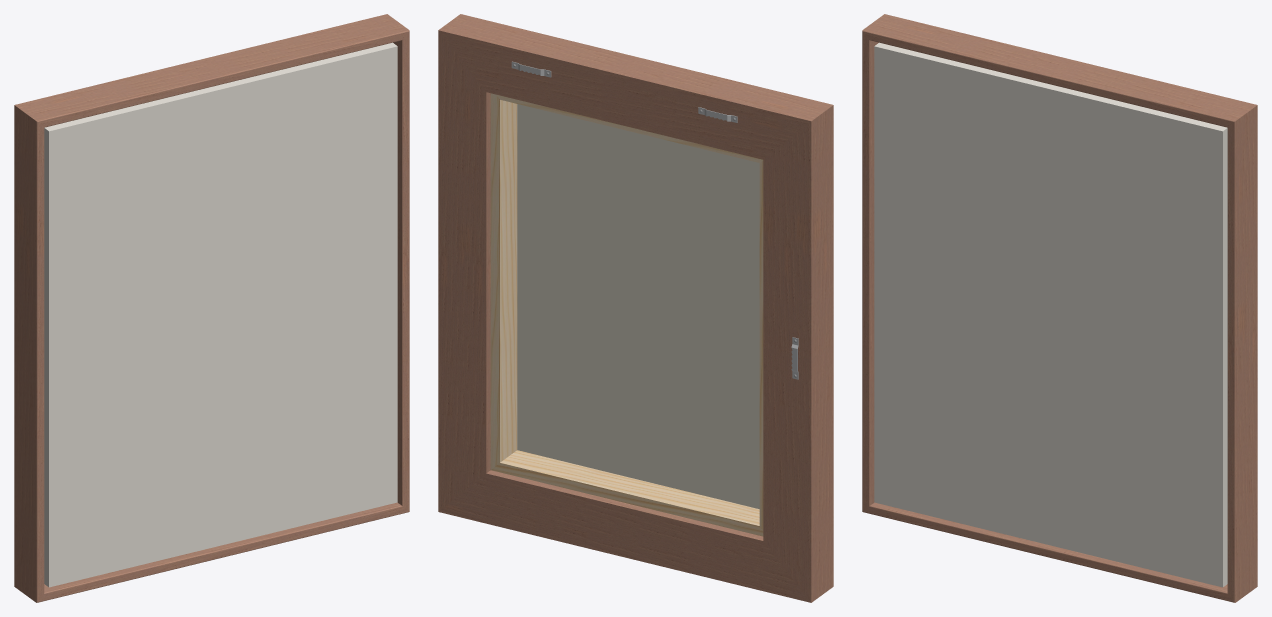
Rendered from decoded-from-delivery.glb.
The picture shows the model from 3 angles, left to right: view 1: azimuth 30°, elevation 25°; view 2: azimuth 150°, elevation 25°; view 3: azimuth 330°, elevation 25°; orthographic projection.
Visible parts, largest first — view 1: Canvas artwork front, Tray approved profile 0; view 2: Tray approved profile 0, Canvas linen reverse, Stretcher top, Sawtooth hanger 0; view 3: Canvas artwork front, Tray approved profile 0.
Boxes of the visible parts, bbox=[...] form: Canvas artwork front: bbox=[44, 42, 397, 587]; Tray approved profile 0: bbox=[14, 14, 409, 602]; Tray approved profile 0: bbox=[438, 14, 833, 602]; Canvas linen reverse: bbox=[517, 104, 759, 508]; Stretcher top: bbox=[490, 93, 763, 536]; Sawtooth hanger 0: bbox=[511, 61, 798, 379]; Canvas artwork front: bbox=[874, 42, 1227, 587]; Tray approved profile 0: bbox=[862, 14, 1257, 602].
Size of the model in its own units: 0.428 by 0.528 by 0.0474.
Materials: 7 (3 with a texture image).
